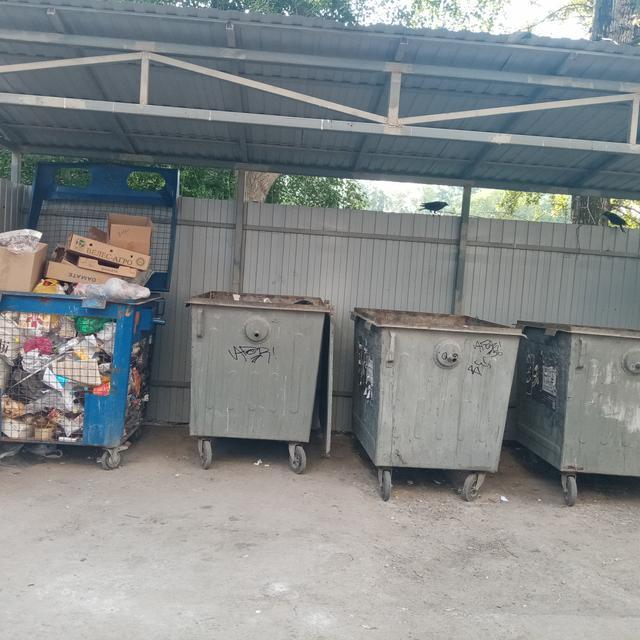Trash_Can_Empty: (351, 306, 528, 471), (185, 289, 332, 444), (516, 319, 640, 479)
Trash_Can_Full: (1, 212, 165, 449)
